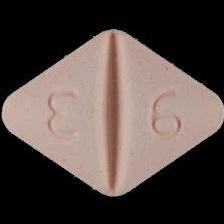0093-0463: (0, 0, 224, 224)
